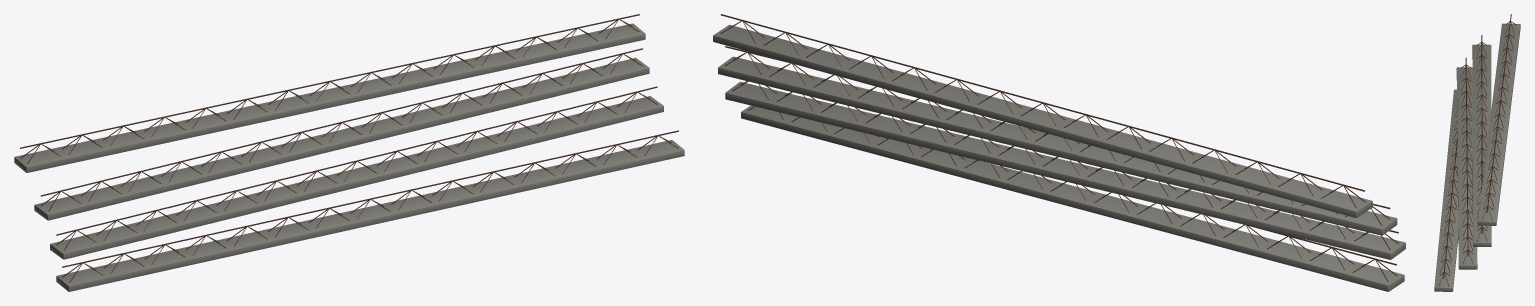
The model's file is EST-LAJ-001_anim.glb.
3 views of the same model, side by side, from view 1: azimuth 30°, elevation 25°; view 2: azimuth 150°, elevation 25°; view 3: azimuth 270°, elevation 25° (orthographic). The views are drawn at different scales.
Parts seen in each view (by area): view 1: EST-LAJ-001_anim3, EST-LAJ-001_anim0, EST-LAJ-001_anim2, EST-LAJ-001_anim1; view 2: EST-LAJ-001_anim3, EST-LAJ-001_anim1, EST-LAJ-001_anim0, EST-LAJ-001_anim2; view 3: EST-LAJ-001_anim3, EST-LAJ-001_anim1, EST-LAJ-001_anim2, EST-LAJ-001_anim0.
Part boxes in pixels (box(x1,y1,x2,y2)): EST-LAJ-001_anim3: box(14, 14, 645, 172); EST-LAJ-001_anim0: box(56, 130, 684, 291); EST-LAJ-001_anim2: box(34, 48, 649, 220); EST-LAJ-001_anim1: box(50, 86, 663, 259); EST-LAJ-001_anim3: box(713, 14, 1372, 217); EST-LAJ-001_anim1: box(725, 81, 1405, 259); EST-LAJ-001_anim0: box(741, 105, 1404, 291); EST-LAJ-001_anim2: box(718, 46, 1397, 235); EST-LAJ-001_anim3: box(1477, 14, 1520, 225); EST-LAJ-001_anim1: box(1456, 57, 1477, 269); EST-LAJ-001_anim2: box(1472, 35, 1491, 246); EST-LAJ-001_anim0: box(1434, 89, 1458, 291).
Bounding box in the file's own units: 3.04 × 0.5476 × 0.5517.
Materials: 2 (2 with a texture image).
